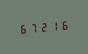one: (48, 19, 57, 32)
seven: (28, 21, 37, 34)
six: (18, 22, 27, 35), (58, 18, 67, 31)
two: (38, 20, 47, 33)
